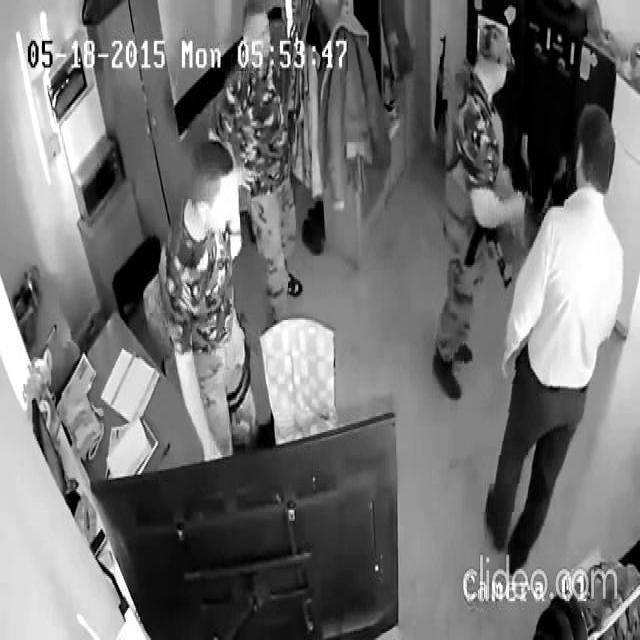pistol: (464, 166, 514, 292), (430, 31, 451, 165), (519, 89, 537, 222)
